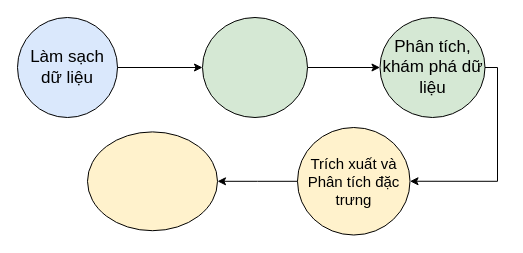
Some shapes in this 523 by 253 pixel diagram are drawn without their labels. Here are the shapes that lost their labels. From the top down, the box of each, then its label:
(202, 16, 308, 118): Chuẩn hoá dữ liệu
(86, 131, 218, 231): Phân chia dữ liệu thành tập train và test
